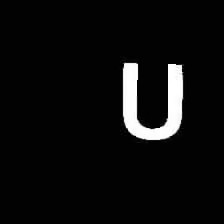LTR_U: (116, 55, 191, 145)
